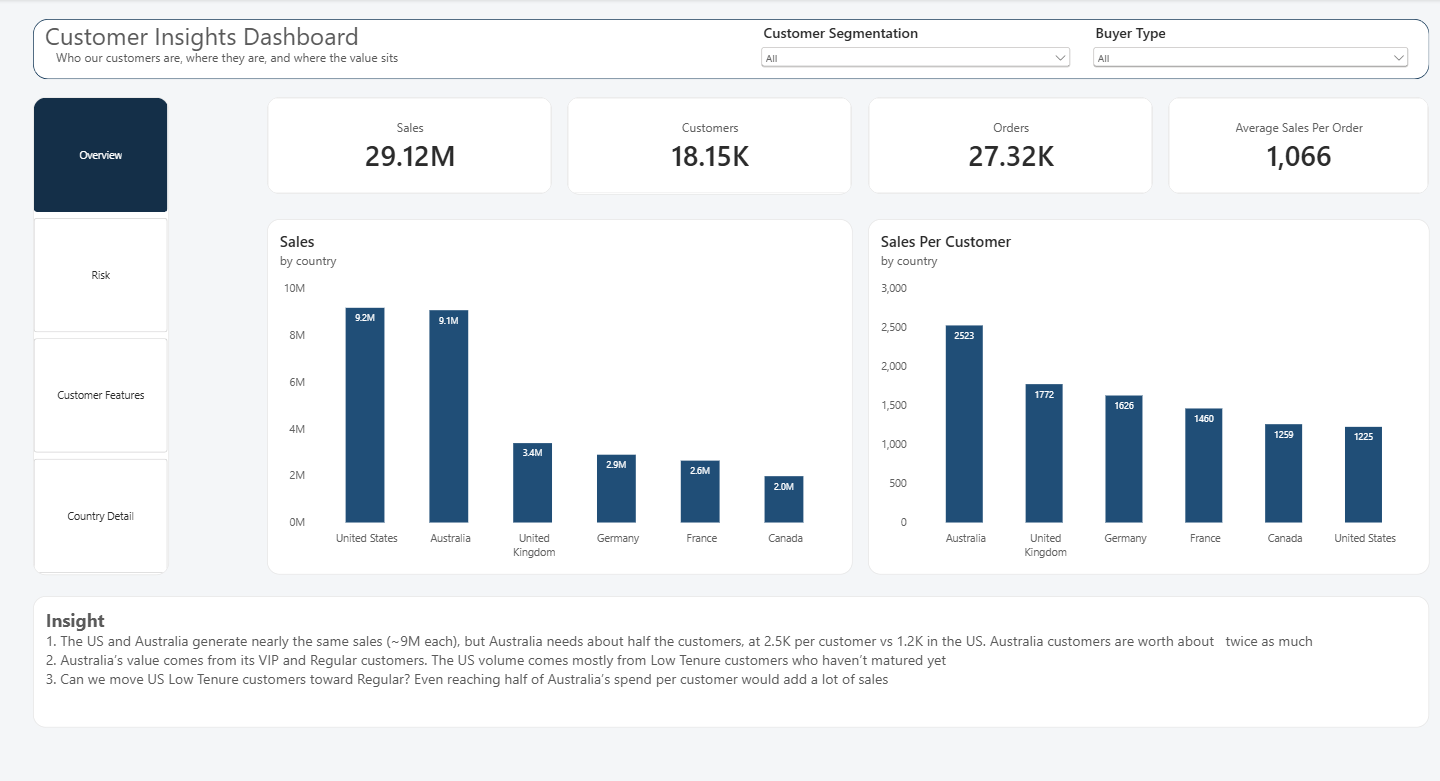

This screenshot's page, from the dashboard's own definition file:
{"tool":"powerbi","page":{"name":"Overview","canvas":[1920,1080],"ordinal":0},"visuals":[{"type":"shape","box":[46.7,26.3,1857.3,80.2],"z":0},{"type":"cardVisual","fields":{"Data":["Measure Table.Total Sales"]},"box":[357.4,129.8,379,129],"z":1000},{"type":"cardVisual","fields":{"Data":["Measure Table.Total Order"]},"box":[1157.1,129.8,379,129],"z":2000},{"type":"cardVisual","fields":{"Data":["Measure Table.Total Customer"]},"box":[757.1,129.8,379.3,129.8],"z":3000},{"type":"cardVisual","fields":{"Data":["Measure Table.Average Sales Per Order"]},"box":[1556.7,129.8,347.2,129],"z":4000},{"type":"clusteredColumnChart","fields":{"Category":["gold customer_report.country"],"Y":["Measure Table.Total Sales"]},"box":[357.4,293.3,779.1,472.7],"z":5000},{"type":"clusteredColumnChart","fields":{"Category":["gold customer_report.country"],"Y":["Measure Table.Sales Per Customer"]},"box":[1157,293.3,747,472.7],"z":6000},{"type":"slicer","fields":{"Values":["gold customer_report.Buyer Type"]},"box":[1441.5,32.1,449.4,70],"z":7000},{"type":"slicer","fields":{"Values":["gold customer_report.customer_segmentation"]},"box":[1000.9,32.1,440.6,67.1],"z":8000},{"type":"textbox","box":[62.7,26.3,550,51.1],"z":9000},{"type":"textbox","box":[77.3,67.1,631.7,39.4],"z":10000},{"type":"textbox","box":[46.7,793.7,1857.3,175.1],"z":11000},{"type":"pageNavigator","box":[46.7,129.8,180.9,636.1],"z":12000}]}

Visuals, with their boxes on the page's 1920x1080 design canvas (x1, y1, x2, y2). These are canvas units, not pixel positions in the 1440x781 screenshot, which may show the page scaled, cropped or inside an application window:
shape: [47, 26, 1904, 106]
cardVisual - Measure Table.Total Sales: [357, 130, 736, 259]
cardVisual - Measure Table.Total Order: [1157, 130, 1536, 259]
cardVisual - Measure Table.Total Customer: [757, 130, 1136, 260]
cardVisual - Measure Table.Average Sales Per Order: [1557, 130, 1904, 259]
clusteredColumnChart - gold customer_report.country x Measure Table.Total Sales: [357, 293, 1136, 766]
clusteredColumnChart - gold customer_report.country x Measure Table.Sales Per Customer: [1157, 293, 1904, 766]
slicer - gold customer_report.Buyer Type: [1442, 32, 1891, 102]
slicer - gold customer_report.customer_segmentation: [1001, 32, 1442, 99]
textbox: [63, 26, 613, 77]
textbox: [77, 67, 709, 106]
textbox: [47, 794, 1904, 969]
pageNavigator: [47, 130, 228, 766]
